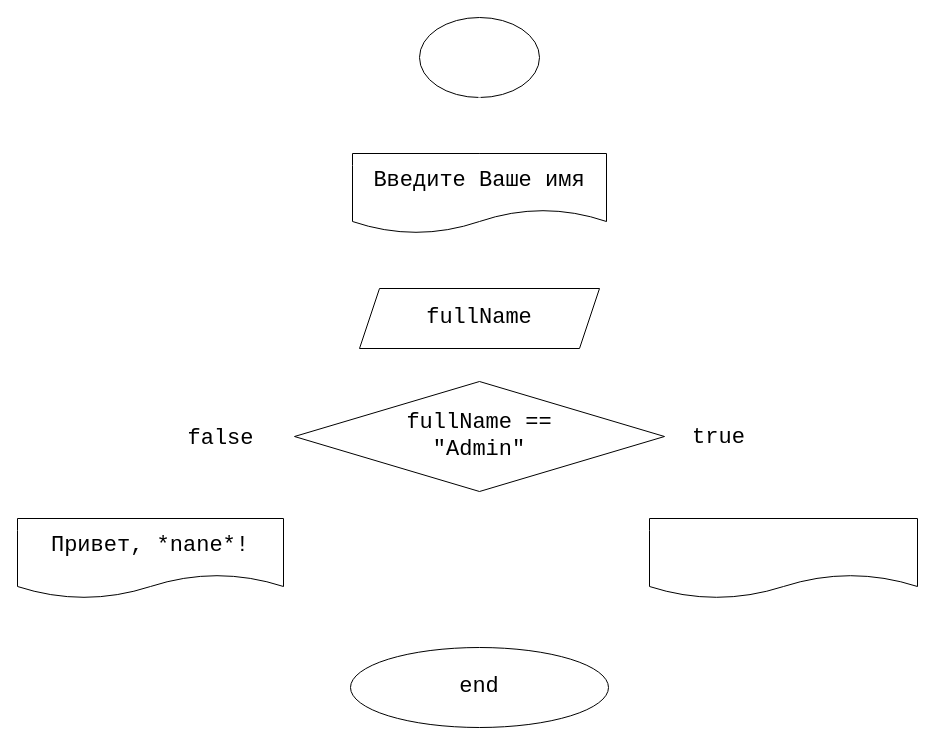
The diagram is 935 pixels wide and 745 high, and some of its shapes have lost their labels. The box of each missing label's shape, as (x1, y1, x2, y2) in pixels:
start: (418, 16, 540, 98)
Я так ждала Вас, Admin!: (648, 518, 918, 598)
